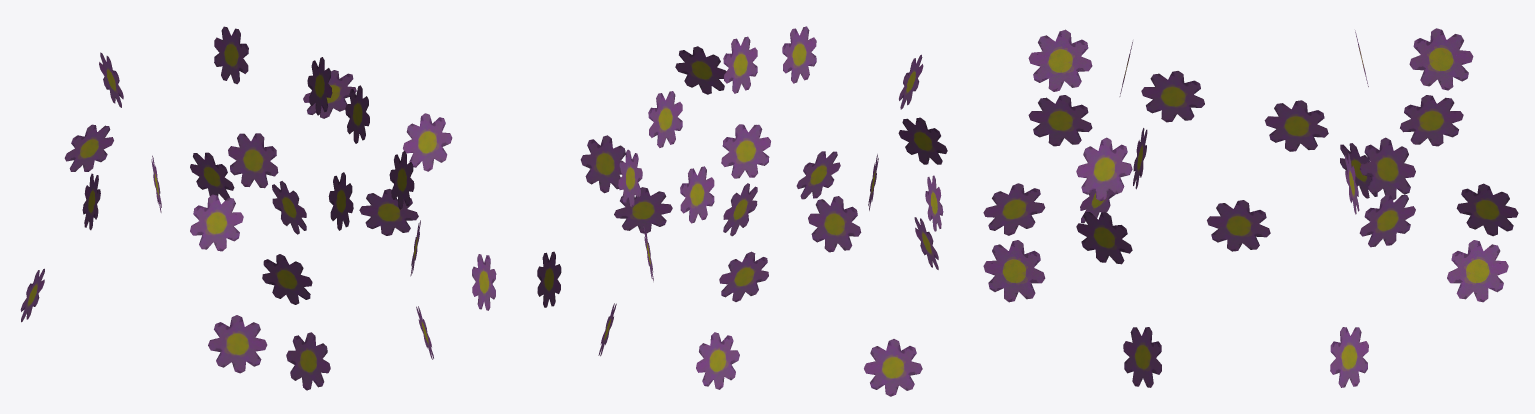
The model's file is Arbustoswflor.fbx.
3 renders of one model, left to right at view 1: azimuth 30°, elevation 25°; view 2: azimuth 150°, elevation 25°; view 3: azimuth 270°, elevation 25°, orthographic. The views are drawn at different scales.
Visible parts, largest first — view 1: Arbusto2.001; view 2: Arbusto2.001; view 3: Arbusto2.001.
Part boxes in pixels (x1,y1,x2,y2): Arbusto2.001: (20,26,496,390); Arbusto2.001: (537,26,947,396); Arbusto2.001: (983,28,1518,387).
Bounding box in the file's own units: 124 × 71.5 × 132.
